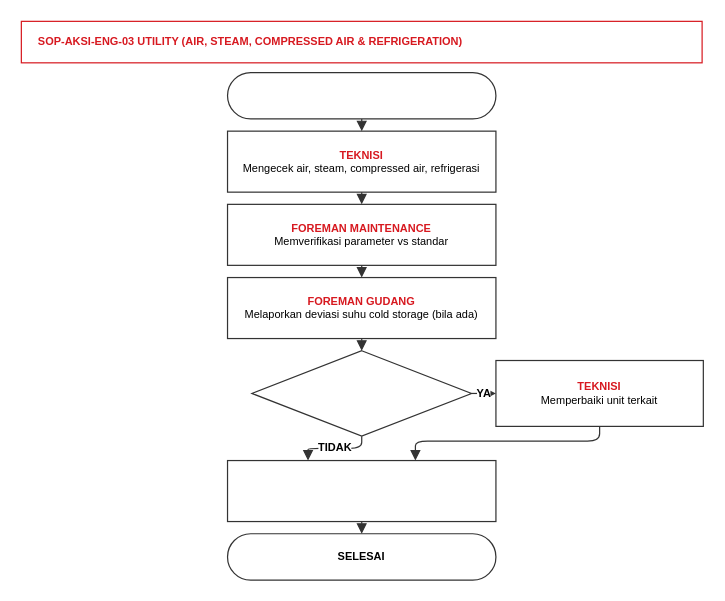
This 725x601 diagram has some shape labels left out. The centre of each missing label's shape, as x and y in pixels:
"Ada deviasi?" belongs at (x=361, y=393).
"FOREMAN MAINTENANCE Mendokumentasikan hasil monitoring" belongs at (x=361, y=490).
"MULAI — jadwal monitoring harian" belongs at (x=361, y=95).
